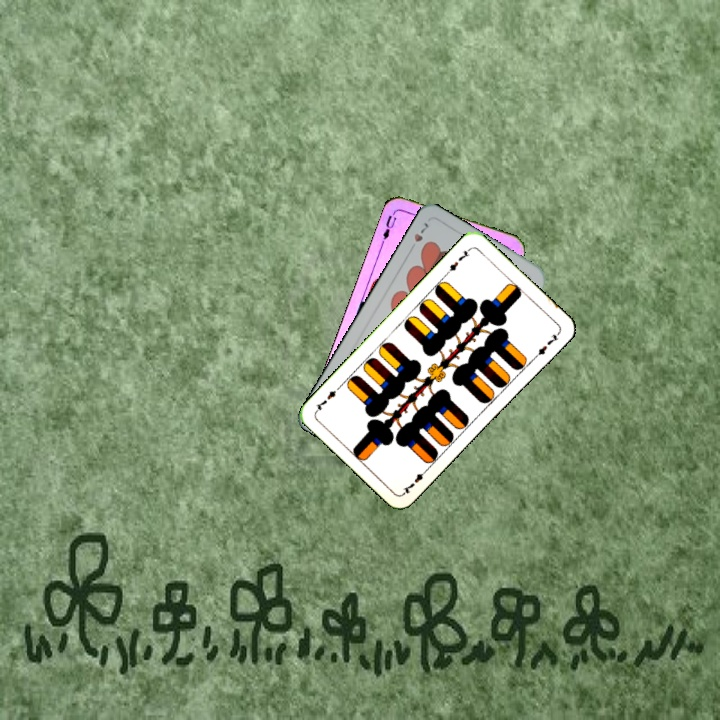E7: (442, 244, 474, 277), (399, 464, 431, 496)
EU: (378, 206, 399, 245)
H7: (405, 218, 432, 254)
